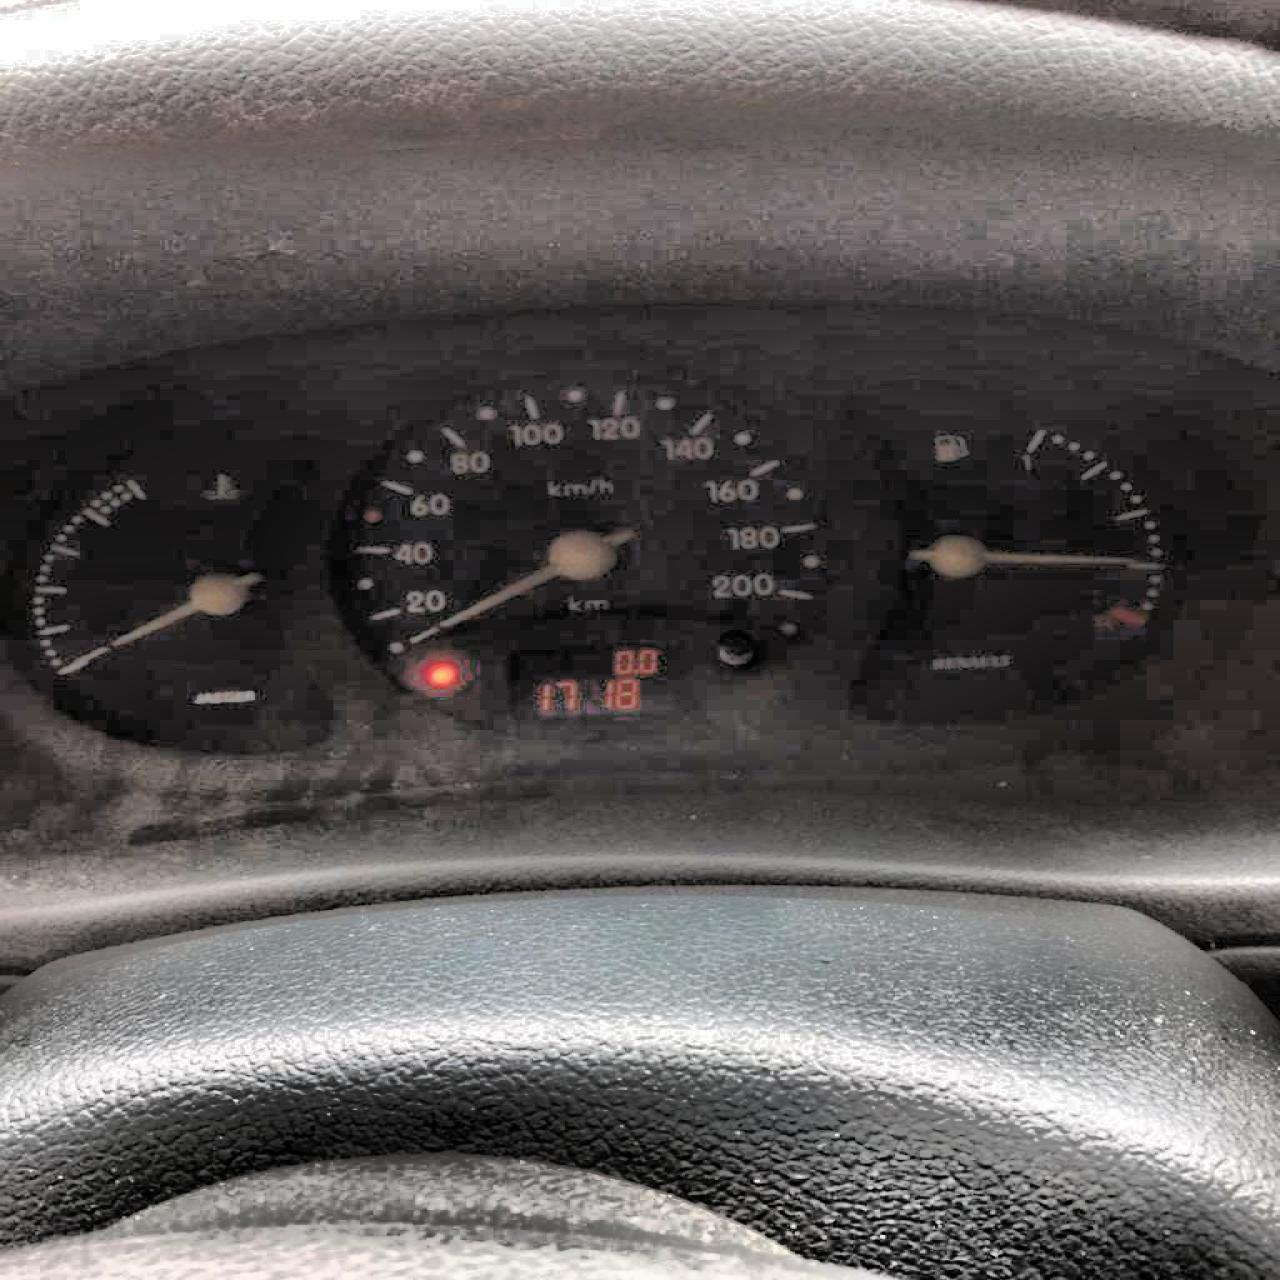-: (632, 667, 639, 674)
0: (612, 648, 631, 674), (639, 648, 655, 674)
1: (536, 682, 552, 712), (598, 679, 612, 709)
7: (556, 679, 577, 712)
8: (613, 678, 636, 710)
odometer: (492, 644, 695, 726)
